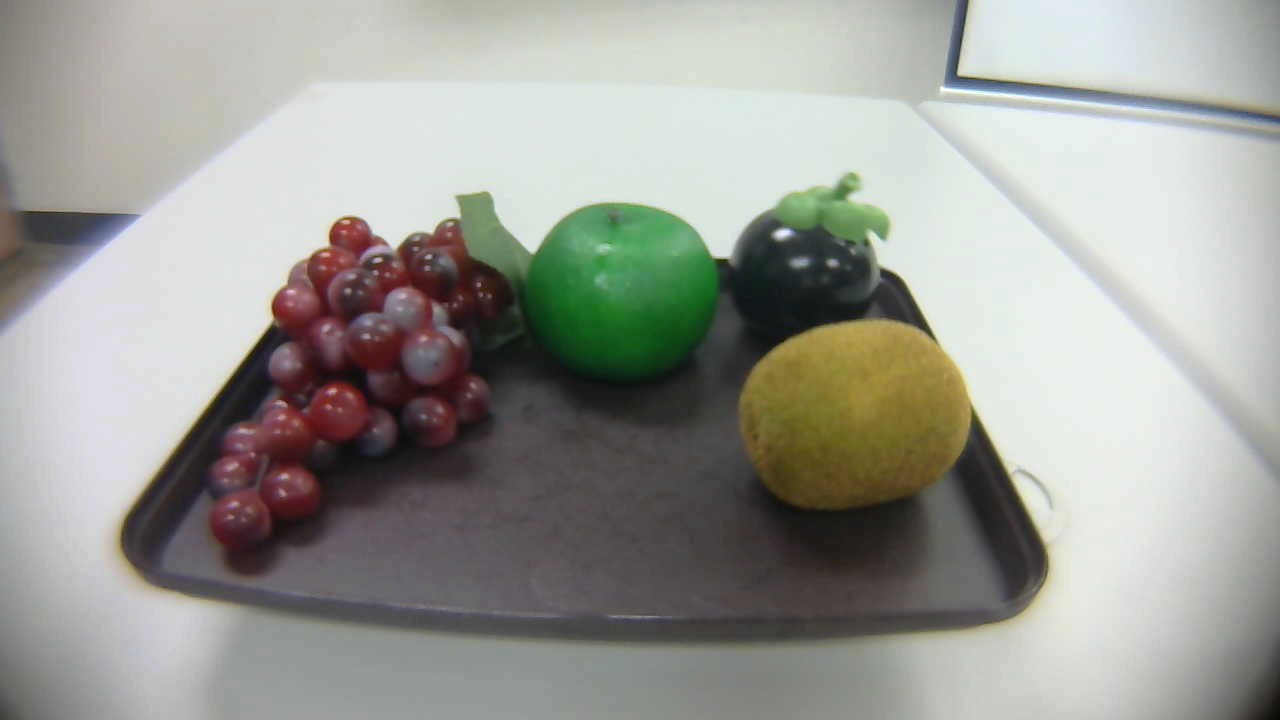grape: (192, 178, 535, 558)
green orange: (513, 189, 735, 394)
kiwi fruit: (717, 316, 978, 521)
mangosteen: (725, 168, 892, 347)
